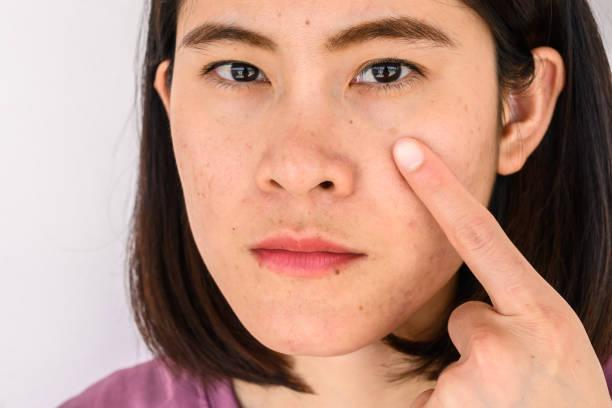Dry-Skin: (198, 118, 368, 180), (224, 212, 320, 314), (270, 0, 376, 70), (329, 281, 433, 327), (462, 101, 591, 136), (399, 282, 478, 303), (102, 99, 109, 111), (89, 121, 93, 122)
